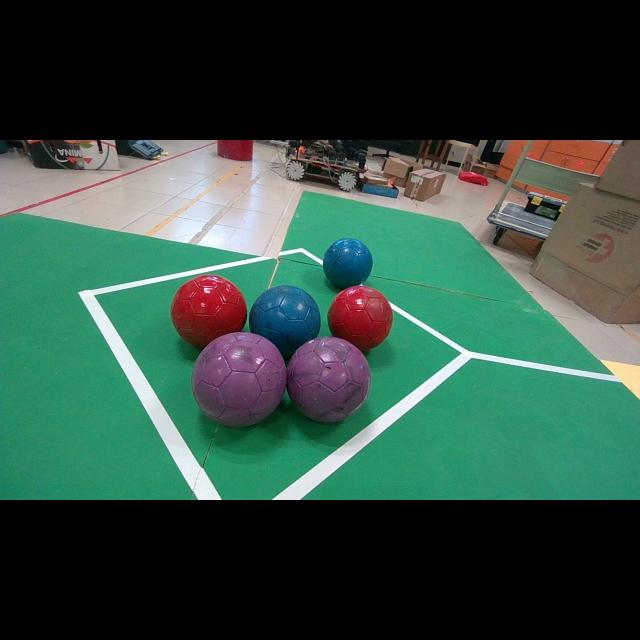B: (249, 285, 320, 357), (322, 238, 372, 288)
P: (192, 332, 286, 426), (288, 336, 371, 422)
R: (171, 275, 248, 348), (328, 285, 392, 350)
